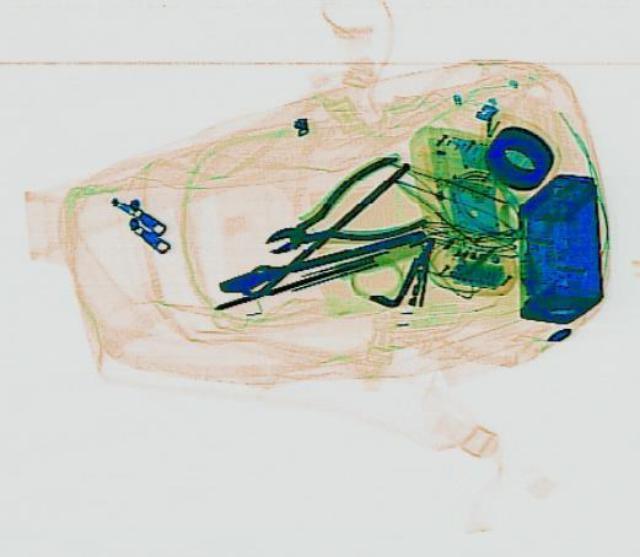Pliers: (242, 149, 440, 282)
